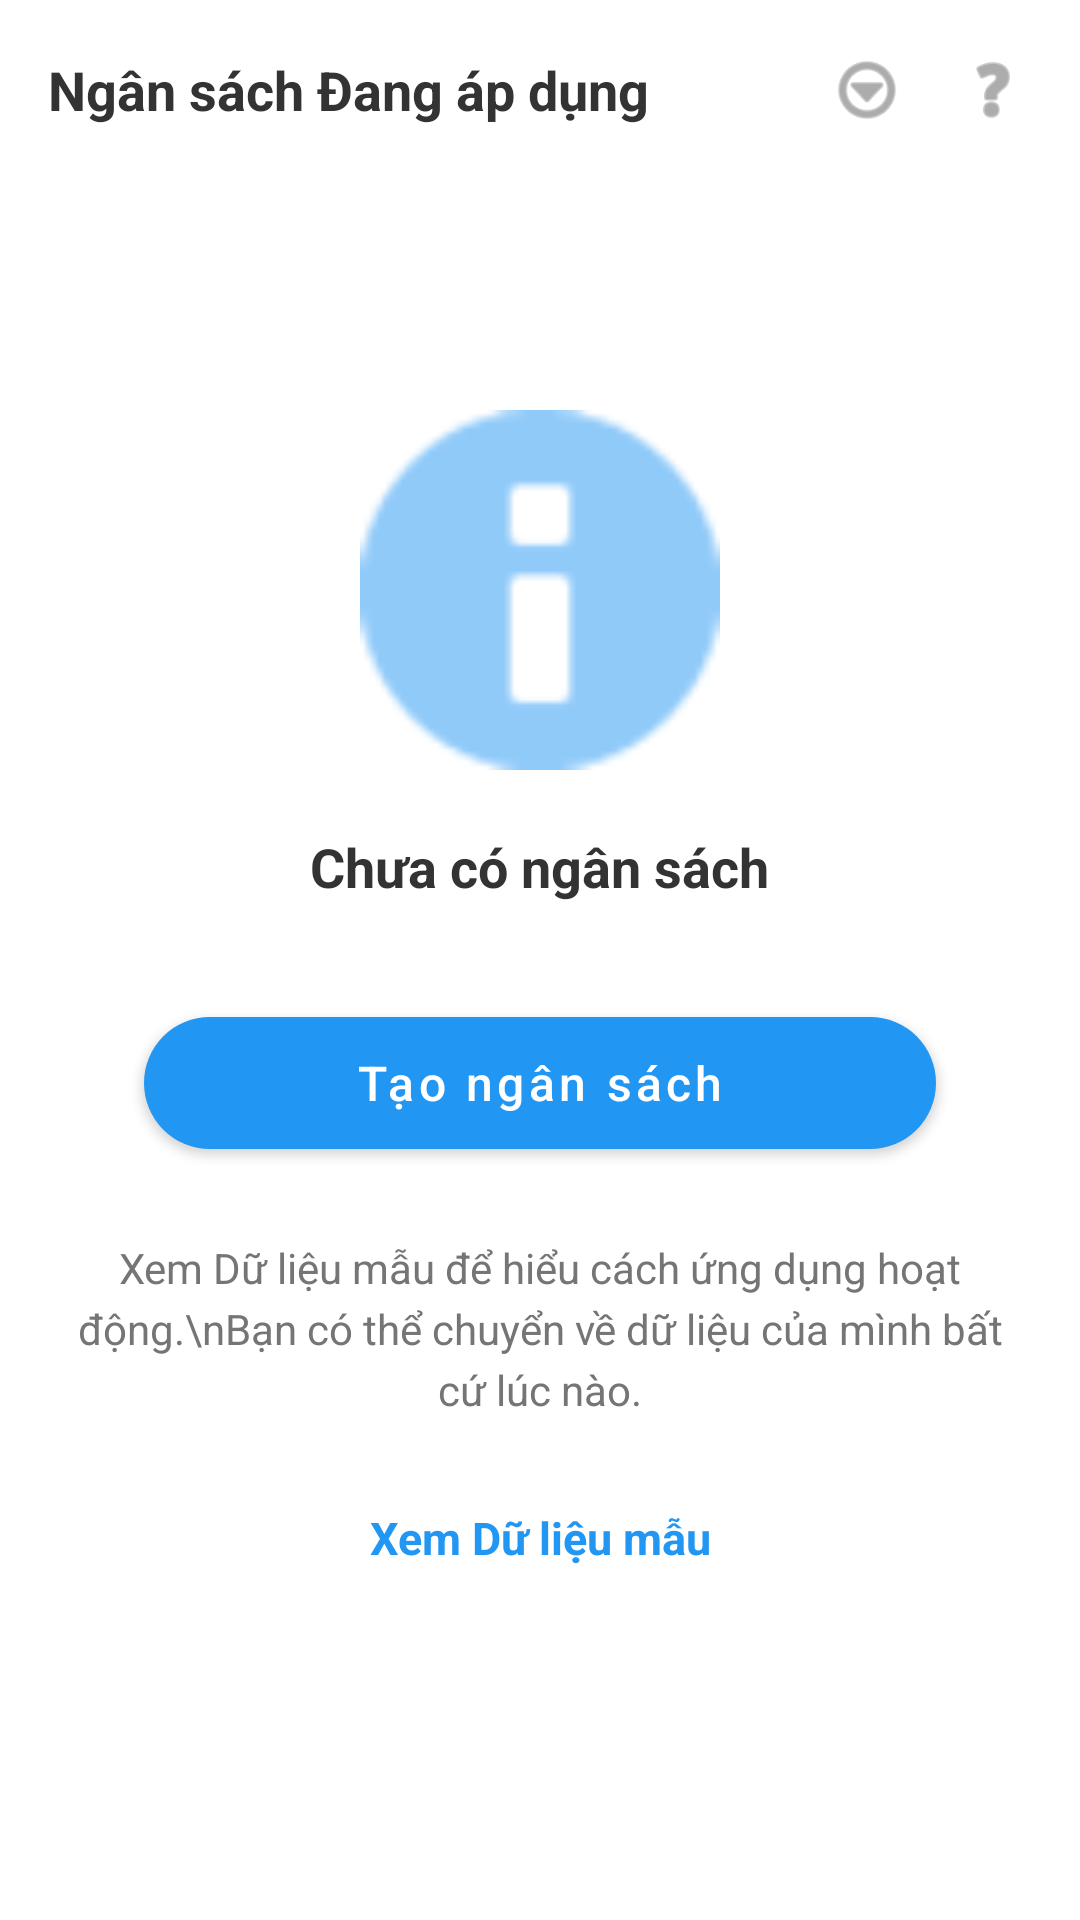

Screen size 1080px x 1920px. Icon name, then its box in pixels as bbox=[x1, y1, x2, y2]:
help: bbox=[976, 62, 1010, 118]
info: bbox=[360, 410, 720, 770]
more: bbox=[838, 61, 896, 119]
